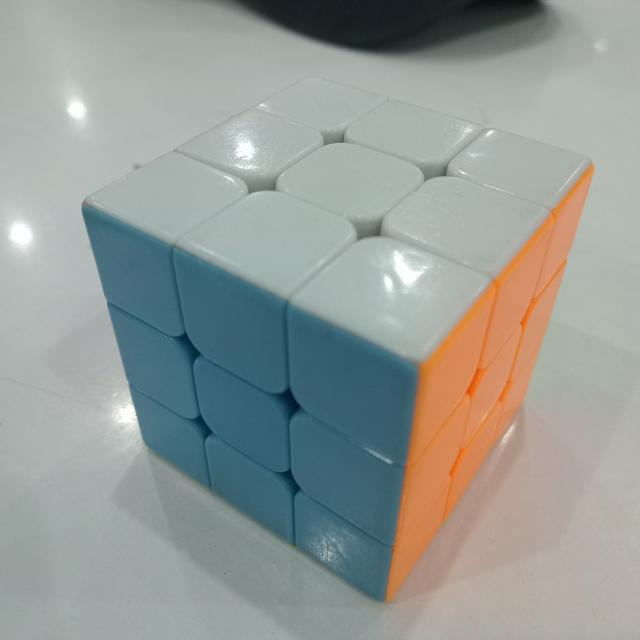back: (82, 205, 418, 602)
left: (385, 165, 594, 602)
rubik: (66, 67, 602, 620)
up: (86, 76, 592, 364)
